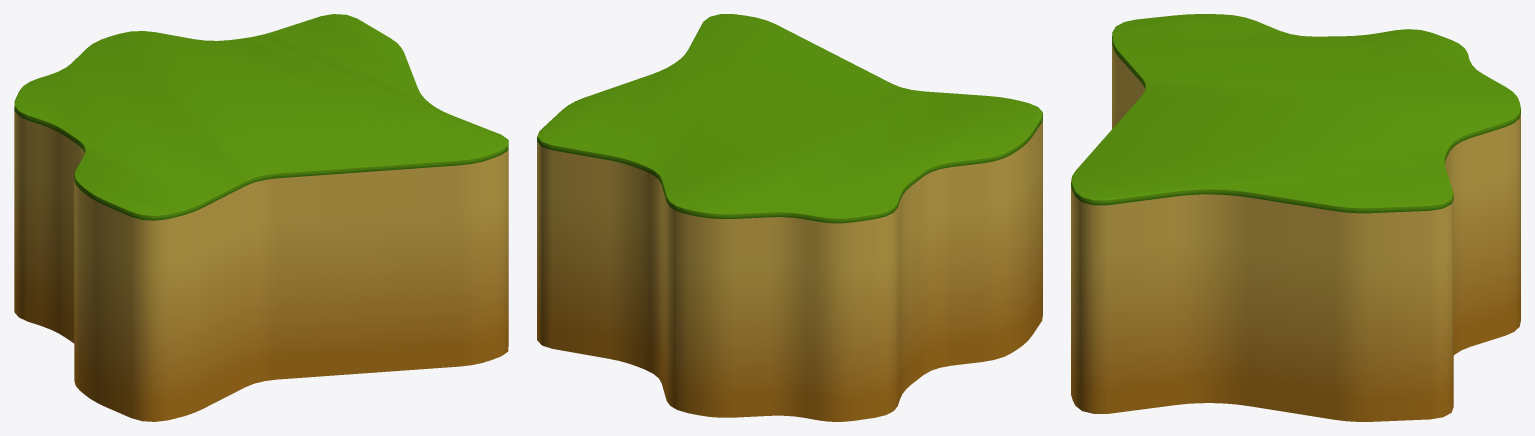
The model's file is LM100NAT06.fbx.
3 renders of one model, left to right at view 1: azimuth 30°, elevation 25°; view 2: azimuth 150°, elevation 25°; view 3: azimuth 270°, elevation 25°, orthographic. The views are drawn at different scales.
Visible parts, largest first — view 1: LOD0; view 2: LOD0; view 3: LOD0.
Part boxes in pixels (bbox=[...]): LOD0: bbox=[14, 14, 508, 421]; LOD0: bbox=[537, 14, 1042, 421]; LOD0: bbox=[1071, 14, 1520, 421].
Size of what is drawn, in the model's own units: 9726 by 9519 by 5000.
